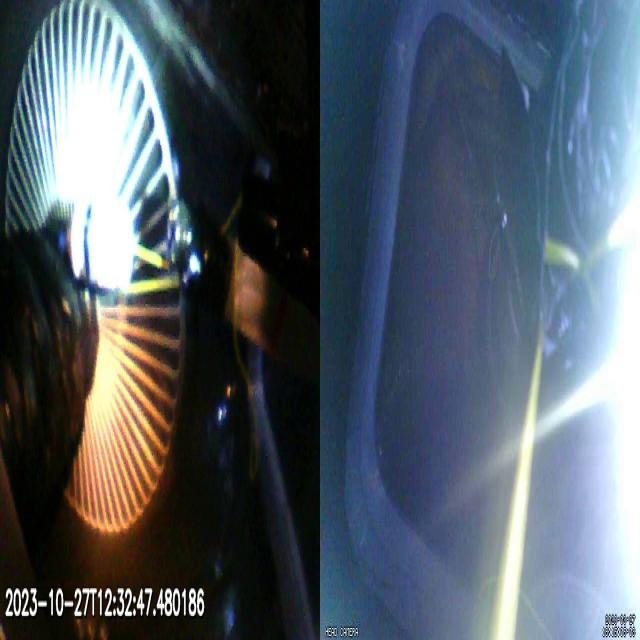head: (69, 193, 136, 291)
